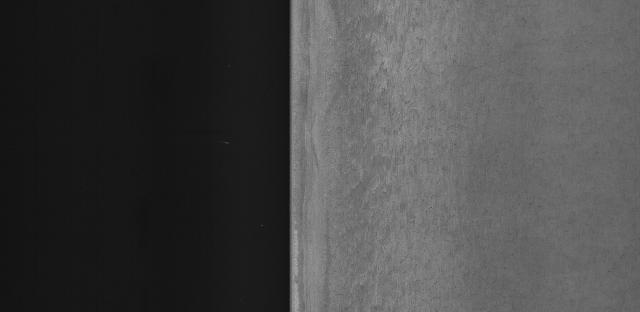silk_spot: (338, 16, 461, 291)
